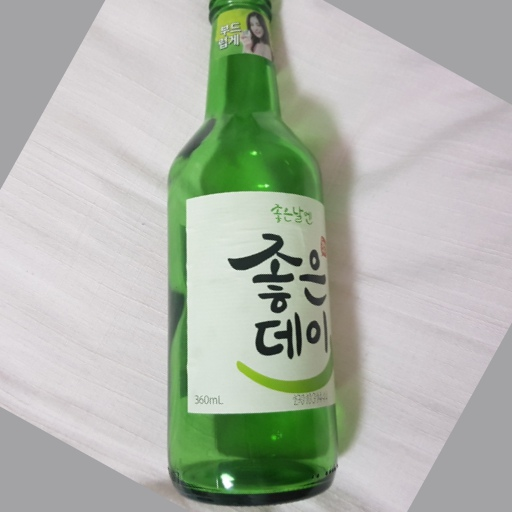Glass_0: (158, 1, 345, 506)
